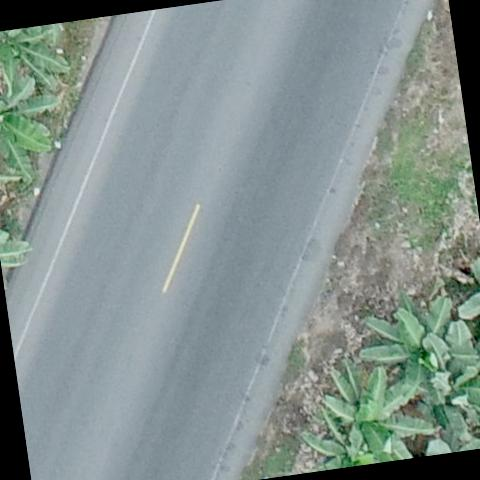Banana-plant: (312, 346, 431, 452), (353, 280, 459, 392), (398, 319, 480, 440), (301, 396, 412, 472), (0, 78, 62, 182), (0, 23, 71, 108)
